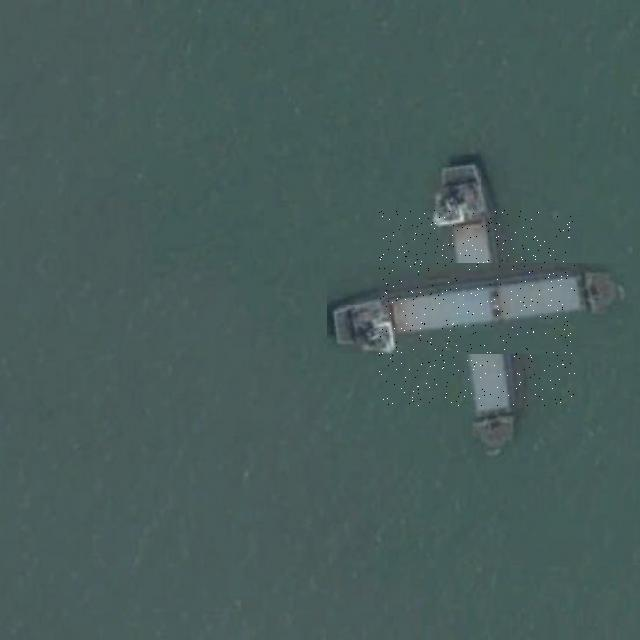boat: (379, 210, 575, 406)
